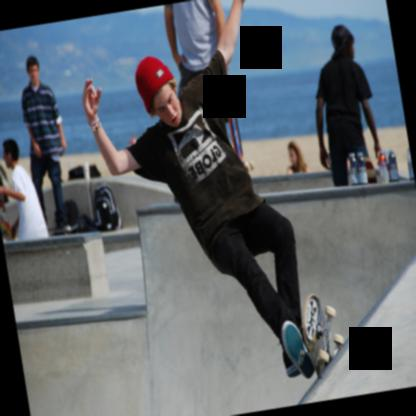backpack: (92, 183, 121, 230), (62, 198, 78, 227)
